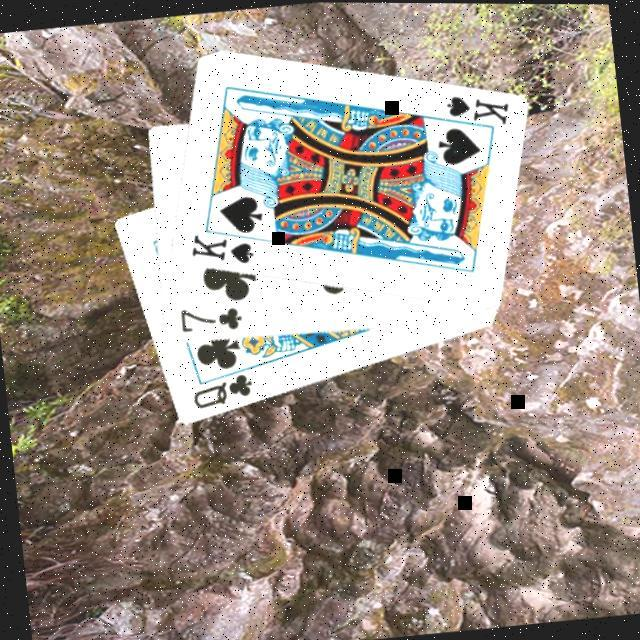7C: (173, 300, 244, 338)
KS: (431, 87, 513, 139), (183, 226, 256, 273)
QC: (186, 369, 258, 414)
